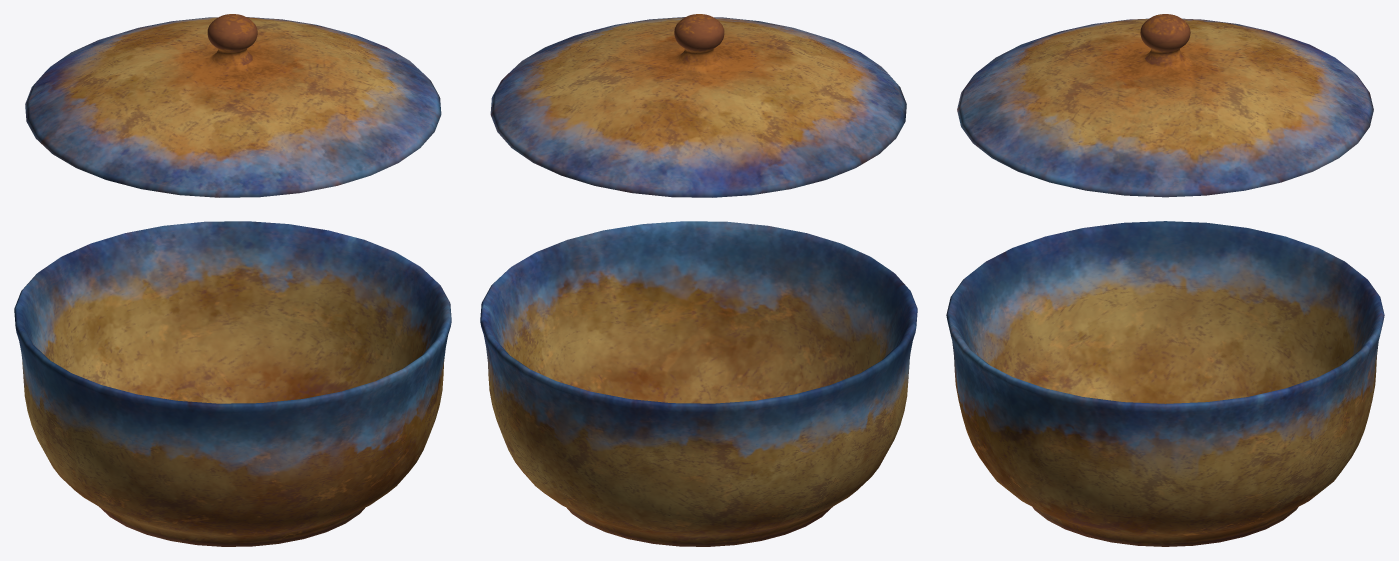
Rendered from terracotta_pot_and_lid.glb.
3 views of the same model, side by side, from view 1: azimuth 30°, elevation 25°; view 2: azimuth 150°, elevation 25°; view 3: azimuth 270°, elevation 25° (orthographic).
Visible parts, largest first — view 1: Cylinder.002, Cylinder1; view 2: Cylinder.002, Cylinder1; view 3: Cylinder.002, Cylinder1.
Boxes of the visible parts, <box> form: Cylinder.002: <box>14,221,451,546</box>; Cylinder1: <box>25,14,441,197</box>; Cylinder.002: <box>480,221,917,546</box>; Cylinder1: <box>490,14,906,197</box>; Cylinder.002: <box>946,221,1384,546</box>; Cylinder1: <box>957,14,1373,197</box>.
Bounding box in the file's own units: 41.55 × 49.19 × 41.55.
Materials: 1 (1 with a texture image).
